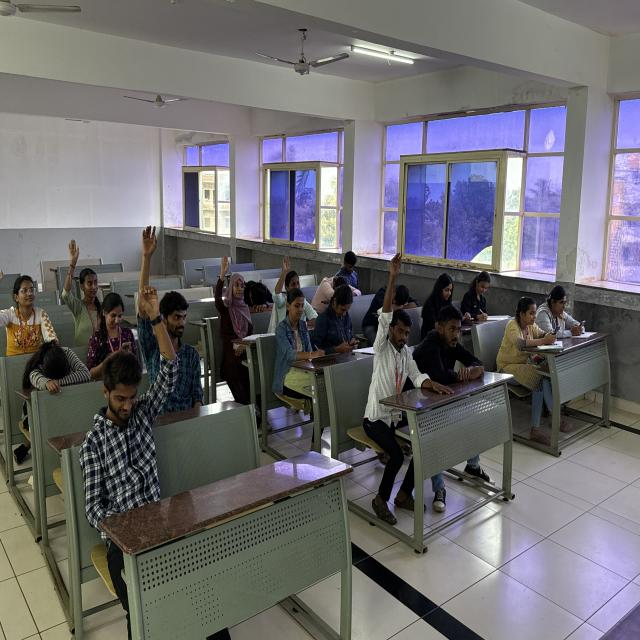Hand Rising: (93, 283, 175, 517), (140, 225, 202, 394), (376, 252, 417, 388), (61, 238, 106, 345), (215, 253, 253, 346), (274, 251, 303, 309)
Reading: (422, 271, 460, 318)
Sleeping: (20, 338, 95, 405), (376, 280, 424, 311), (245, 278, 276, 315)
Using Phone: (505, 294, 563, 380), (537, 282, 590, 343), (93, 290, 138, 357), (325, 286, 363, 358), (337, 249, 364, 290)
Writing: (275, 287, 324, 370), (460, 270, 494, 321)
